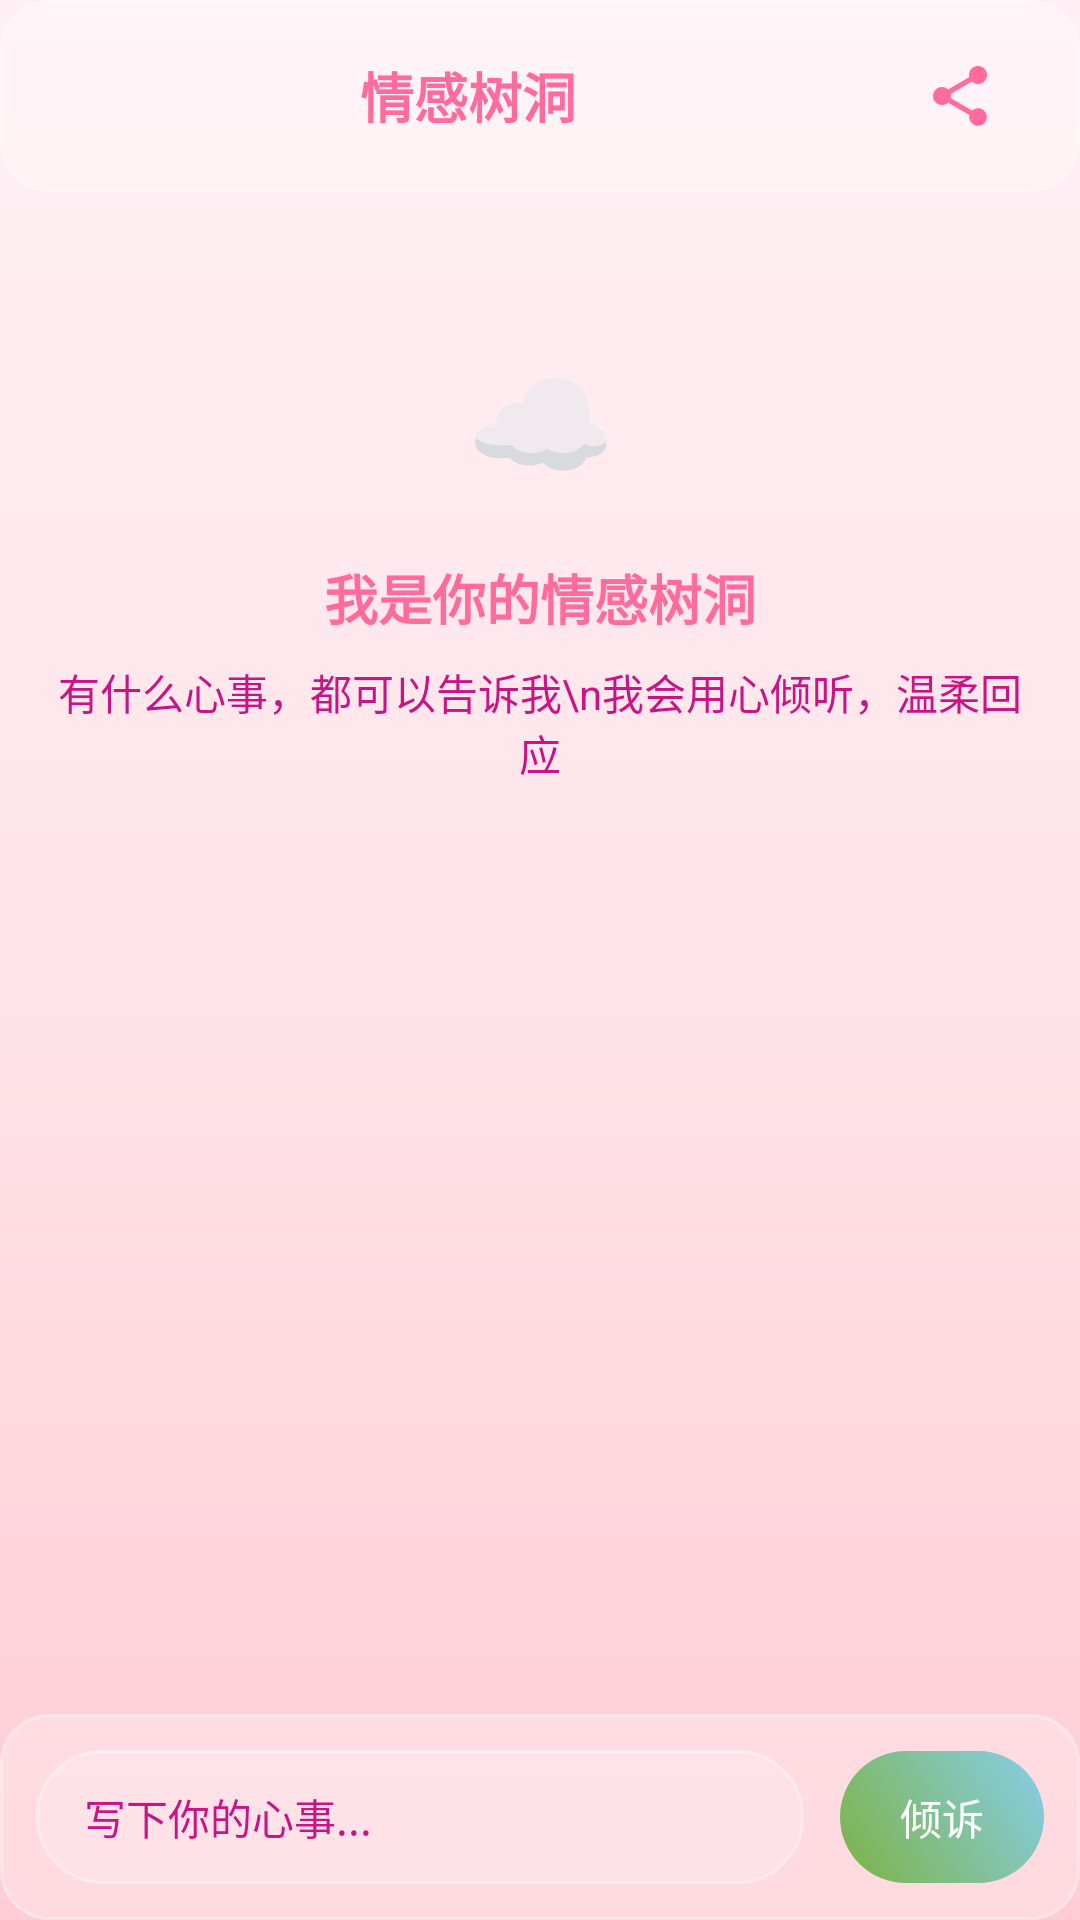

Screen size 1080 x 1920. Icon name, then its center in pixels as (x,y):
share: (960,96)
